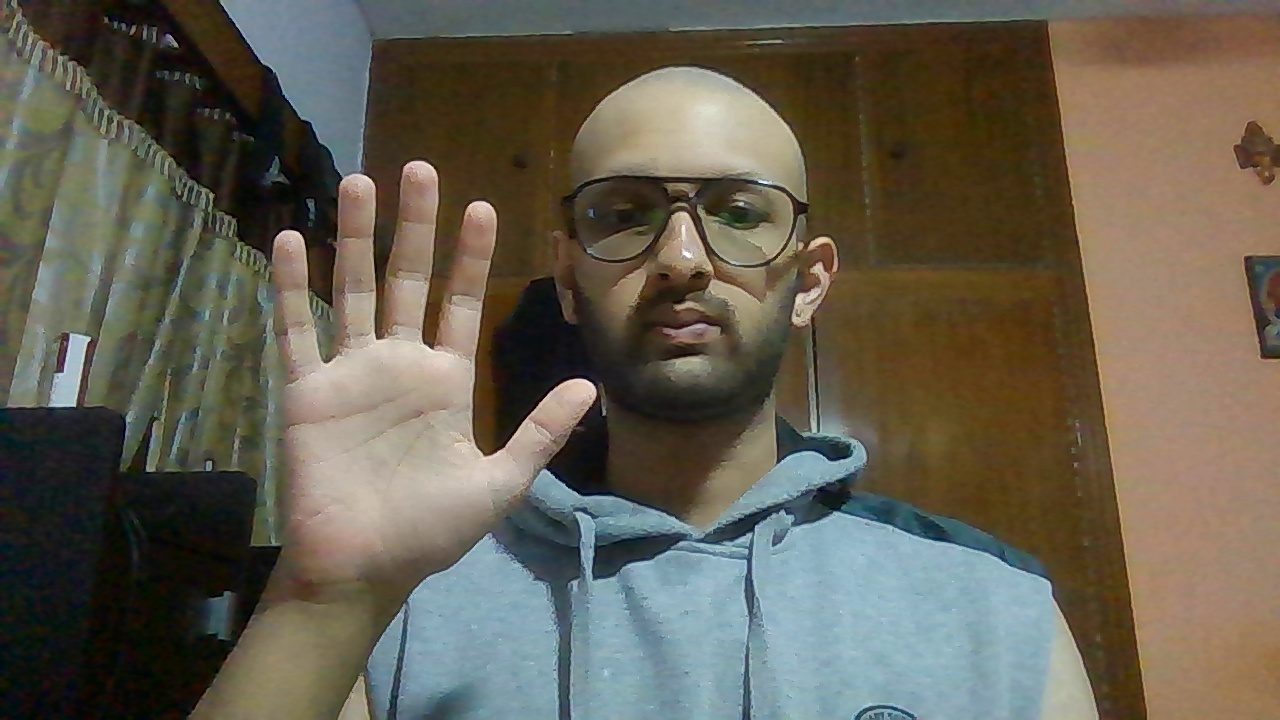Hello: (216, 159, 602, 594)
